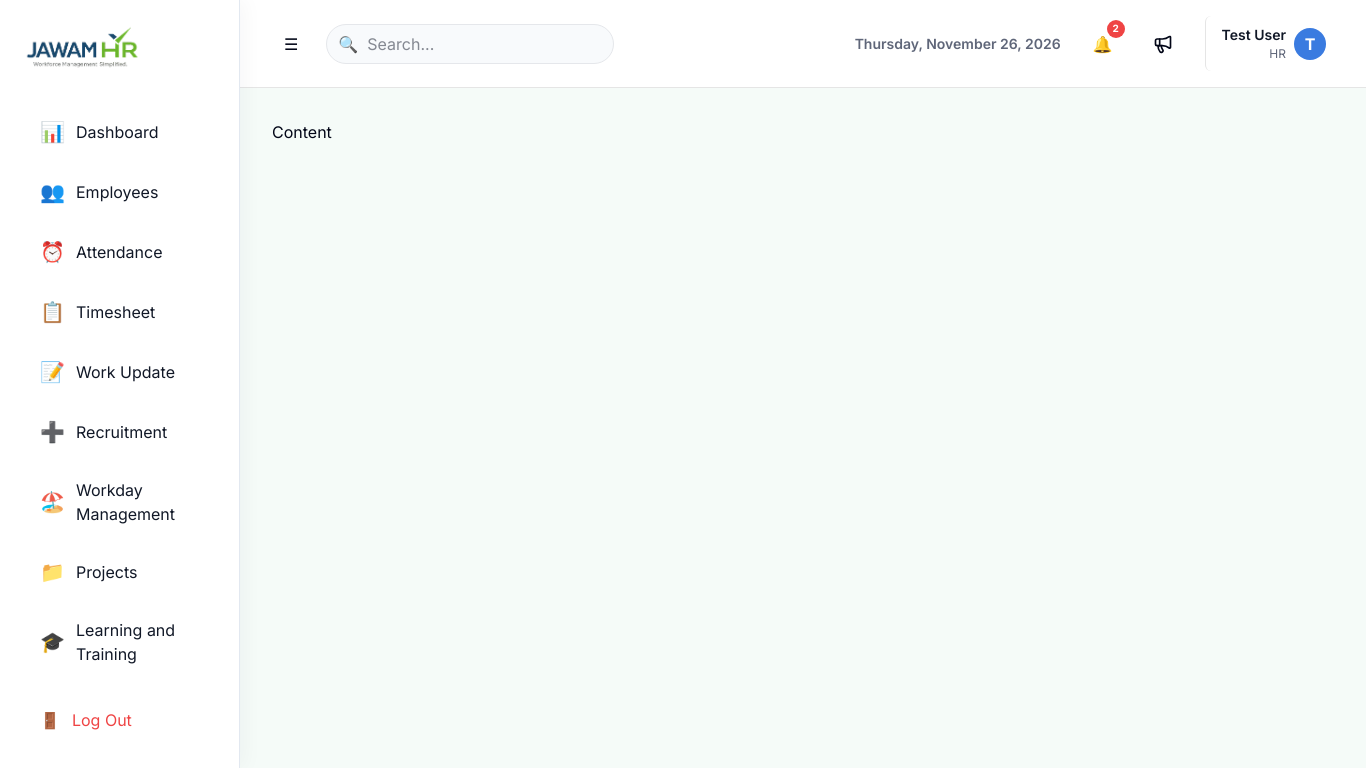
DashboardLayout announcement topbar control › preserves notification behavior and unread count
Expected: the text "2" is shown, [1107,20,1125,38]
Step 1. Click the button named "Notifications" → (1103, 44), box [1085,24,1121,64]
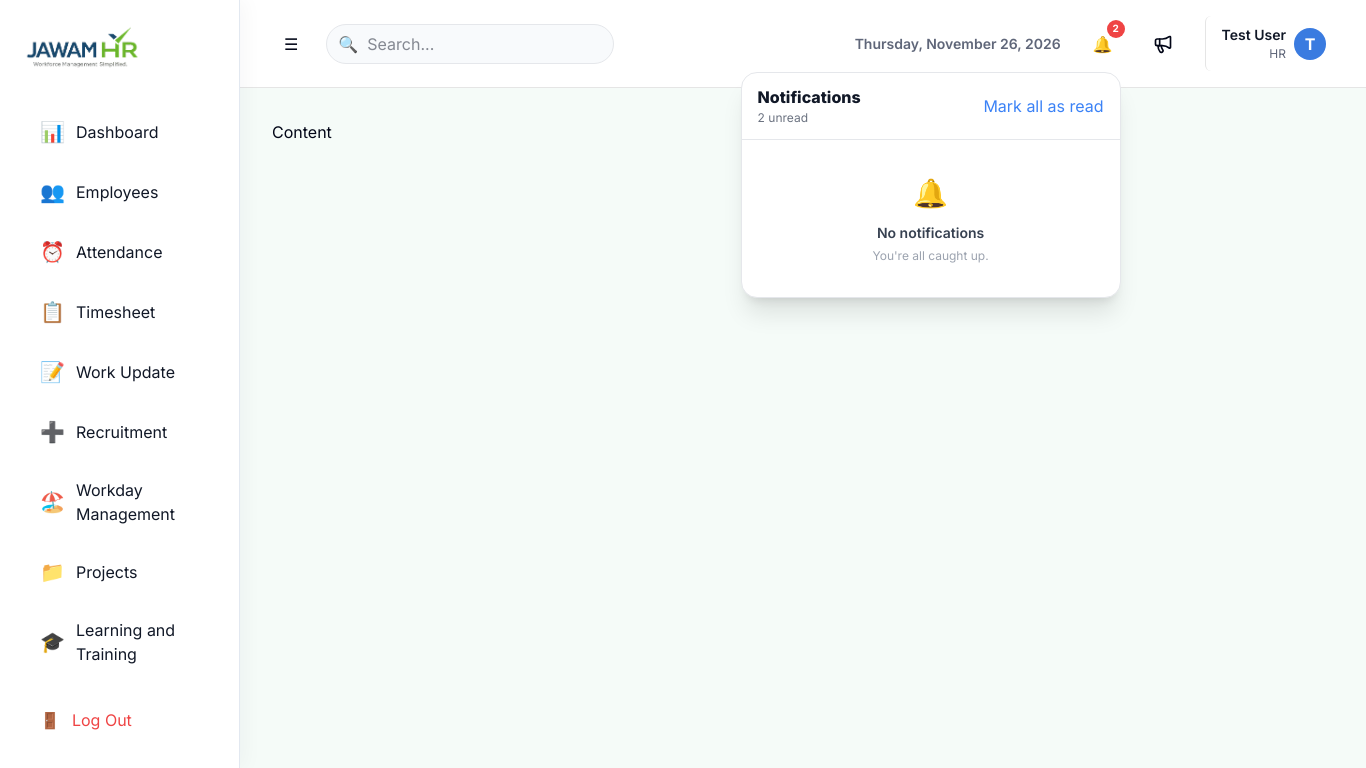
Expected: the heading "Notifications" is shown, [758,84,861,108]
